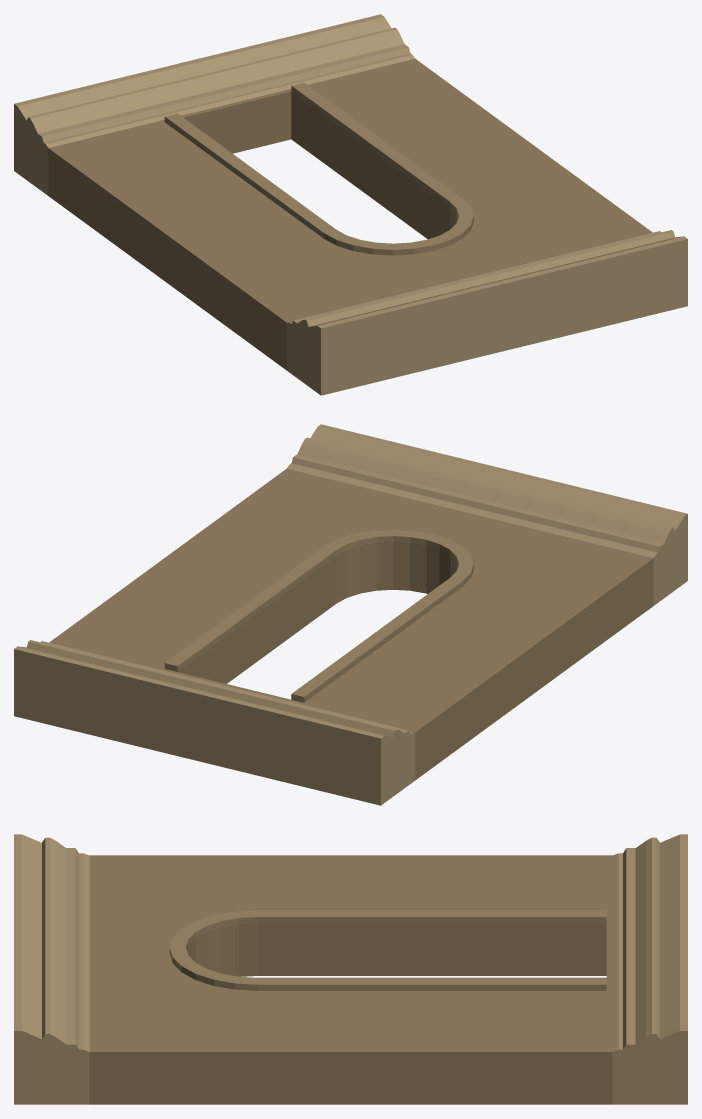
Rendered from T03_Bell_Stage_Wall.obj.
3 renders of one model, top to bottom at view 1: azimuth 30°, elevation 25°; view 2: azimuth 150°, elevation 25°; view 3: azimuth 270°, elevation 25°, orthographic. The views are drawn at different scales.
Visible parts, largest first — view 1: T03_Bell_Stage_Wall; view 2: T03_Bell_Stage_Wall; view 3: T03_Bell_Stage_Wall.
Part boxes in pixels (x1=…): T03_Bell_Stage_Wall: x1=14, y1=14, x2=687, y2=395; T03_Bell_Stage_Wall: x1=14, y1=424, x2=687, y2=805; T03_Bell_Stage_Wall: x1=14, y1=834, x2=687, y2=1104.
Bounding box in the file's own units: 4 × 0.7 × 5.8.
